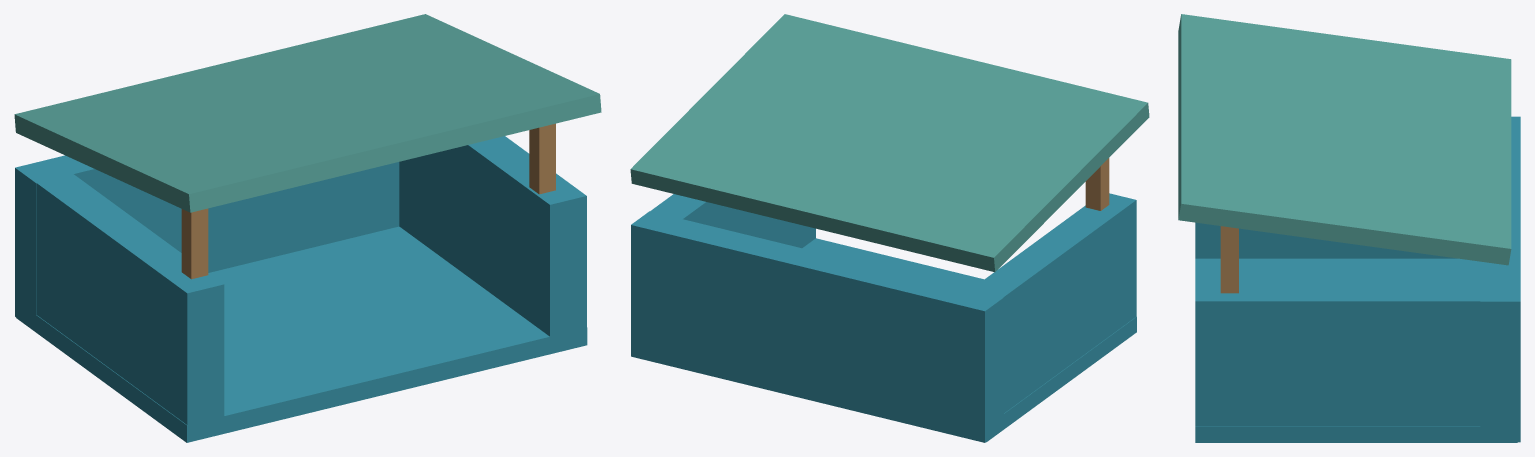
The model's file is manure-storage.source.glb.
3 views of the same model, side by side, from view 1: azimuth 30°, elevation 25°; view 2: azimuth 150°, elevation 25°; view 3: azimuth 270°, elevation 25° (orthographic). The views are drawn at different scales.
Parts seen in each view (by area): view 1: manure-storage-lean-roof-mesh, manure-storage-sealed-floor-mesh, manure-storage-wall-left-mesh, manure-storage-wall-right-mesh, manure-storage-wall-rear-mesh, manure-storage-canopy-post--1.65-mesh, manure-storage-canopy-post-1.65-mesh; view 2: manure-storage-lean-roof-mesh, manure-storage-wall-rear-mesh, manure-storage-wall-left-mesh, manure-storage-sealed-floor-mesh, manure-storage-wall-right-mesh, manure-storage-canopy-post--1.65-mesh; view 3: manure-storage-lean-roof-mesh, manure-storage-wall-right-mesh, manure-storage-sealed-floor-mesh, manure-storage-wall-rear-mesh, manure-storage-wall-left-mesh, manure-storage-canopy-post-1.65-mesh.
Boxes of the visible parts, bbox=[...] form: manure-storage-lean-roof-mesh: bbox=[14, 14, 601, 212]; manure-storage-sealed-floor-mesh: bbox=[16, 226, 587, 442]; manure-storage-wall-left-mesh: bbox=[17, 159, 224, 441]; manure-storage-wall-right-mesh: bbox=[399, 136, 586, 336]; manure-storage-wall-rear-mesh: bbox=[15, 155, 399, 331]; manure-storage-canopy-post--1.65-mesh: bbox=[181, 208, 208, 279]; manure-storage-canopy-post-1.65-mesh: bbox=[529, 123, 555, 194]; manure-storage-lean-roof-mesh: bbox=[630, 14, 1149, 272]; manure-storage-wall-rear-mesh: bbox=[631, 211, 1003, 442]; manure-storage-wall-left-mesh: bbox=[954, 193, 1136, 413]; manure-storage-sealed-floor-mesh: bbox=[802, 238, 1136, 442]; manure-storage-wall-right-mesh: bbox=[633, 194, 815, 248]; manure-storage-canopy-post--1.65-mesh: bbox=[1085, 158, 1109, 210]; manure-storage-lean-roof-mesh: bbox=[1178, 14, 1511, 265]; manure-storage-wall-right-mesh: bbox=[1195, 284, 1517, 425]; manure-storage-sealed-floor-mesh: bbox=[1195, 258, 1517, 442]; manure-storage-wall-rear-mesh: bbox=[1480, 116, 1520, 442]; manure-storage-wall-left-mesh: bbox=[1195, 117, 1517, 258]; manure-storage-canopy-post-1.65-mesh: bbox=[1220, 226, 1238, 293].
Size of the model in its own units: 3.9 by 2.32 by 2.97.
